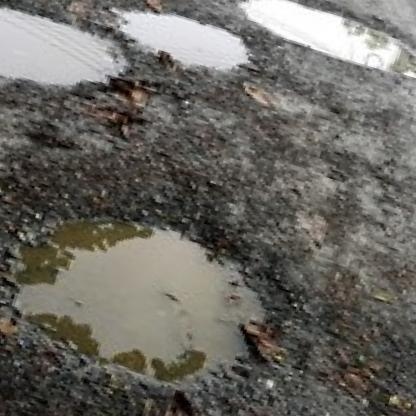pothole: (0, 153, 321, 416), (227, 0, 416, 94), (0, 0, 138, 115), (102, 0, 259, 85)
